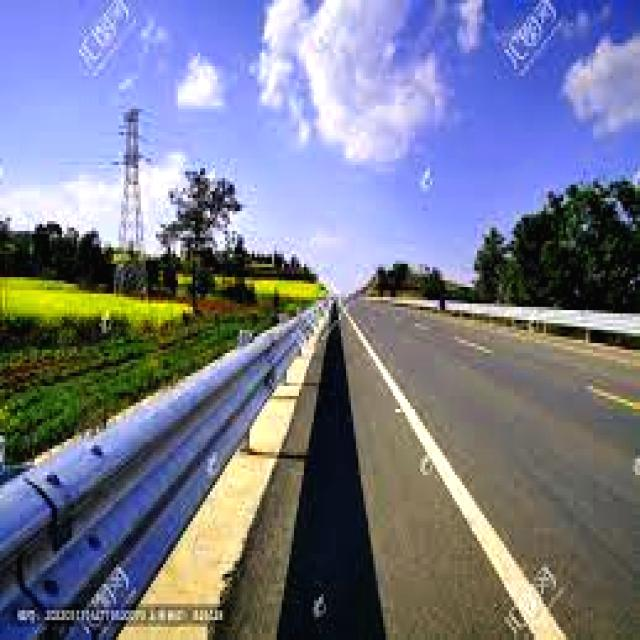Guard rail: (0, 305, 323, 638), (445, 301, 640, 340), (379, 298, 440, 310)
